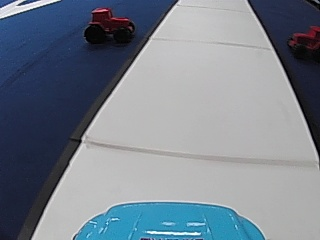tractor: (82, 5, 137, 45), (286, 23, 320, 61)
